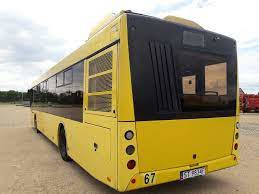autobus: (26, 7, 242, 191)
